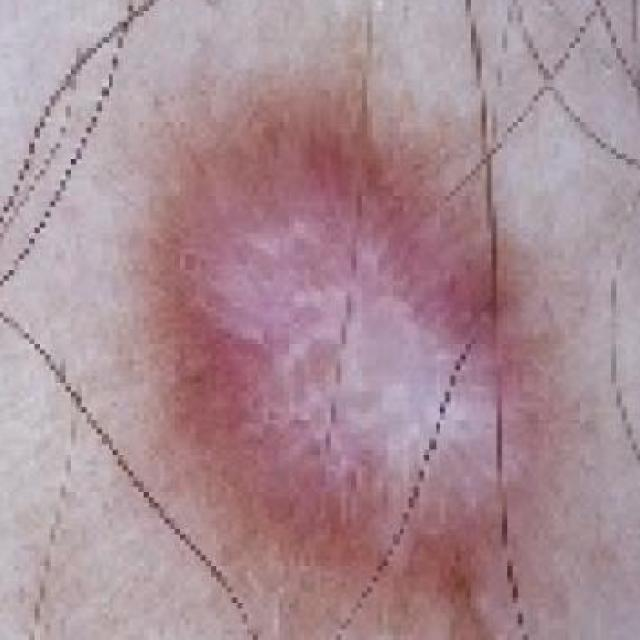DF: (45, 44, 640, 640)
